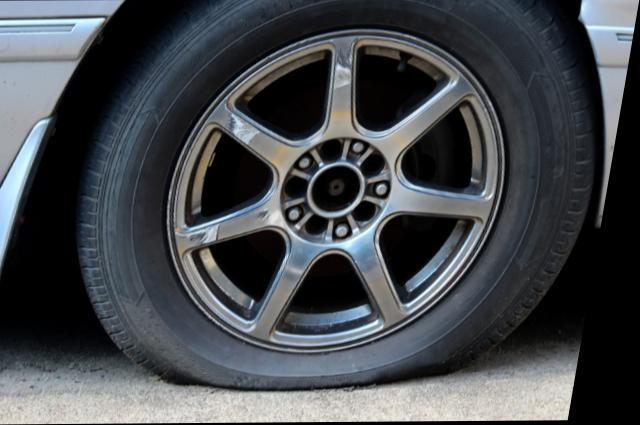tire flat: (82, 0, 597, 389)
